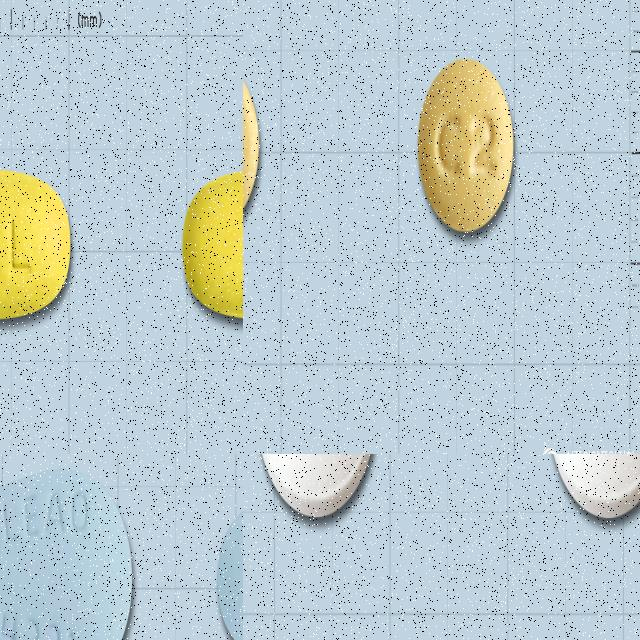Eprosin: (254, 454, 378, 518), (546, 454, 640, 518)
Globit: (416, 56, 515, 238)
Whanin Levofloxacin Tab: (0, 468, 134, 640)
Zecla Tab: (0, 169, 70, 321), (181, 166, 243, 319)
